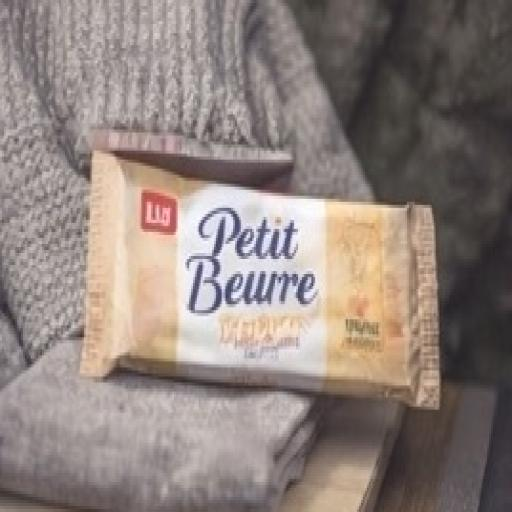petit-beurre: (46, 91, 467, 441)
